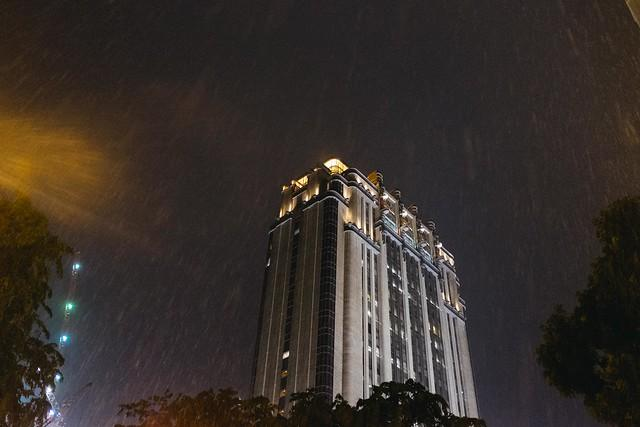building: (250, 154, 488, 427)
